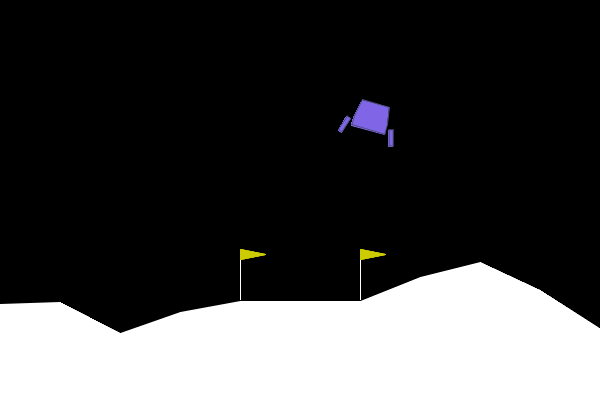lander: (336, 93, 405, 149)
